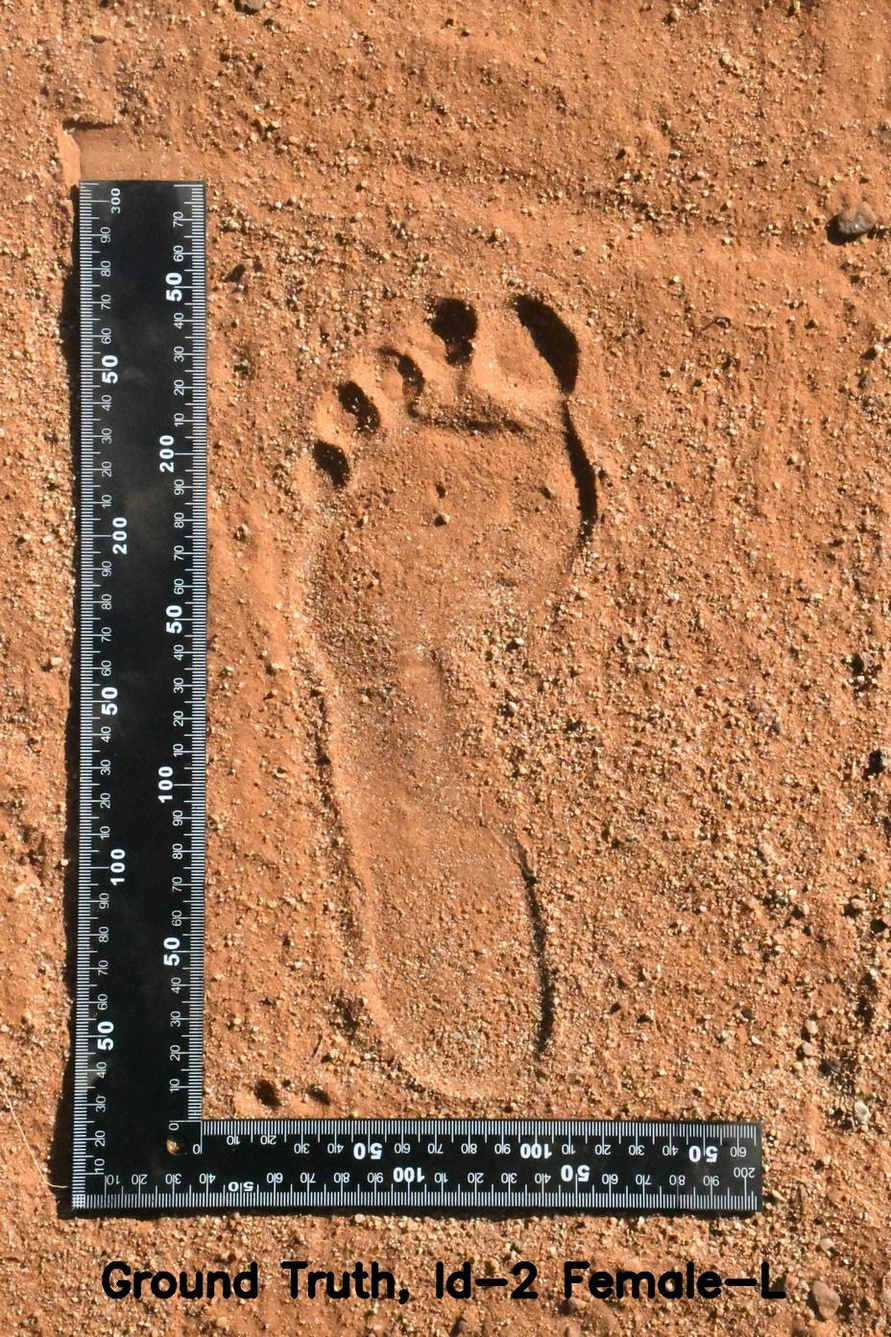human_foot_print: (247, 244, 634, 1098)
